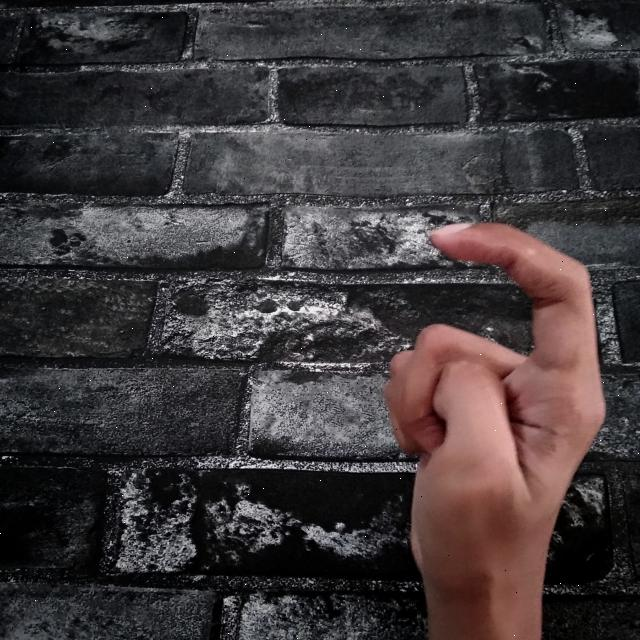X: (368, 212, 612, 640)
